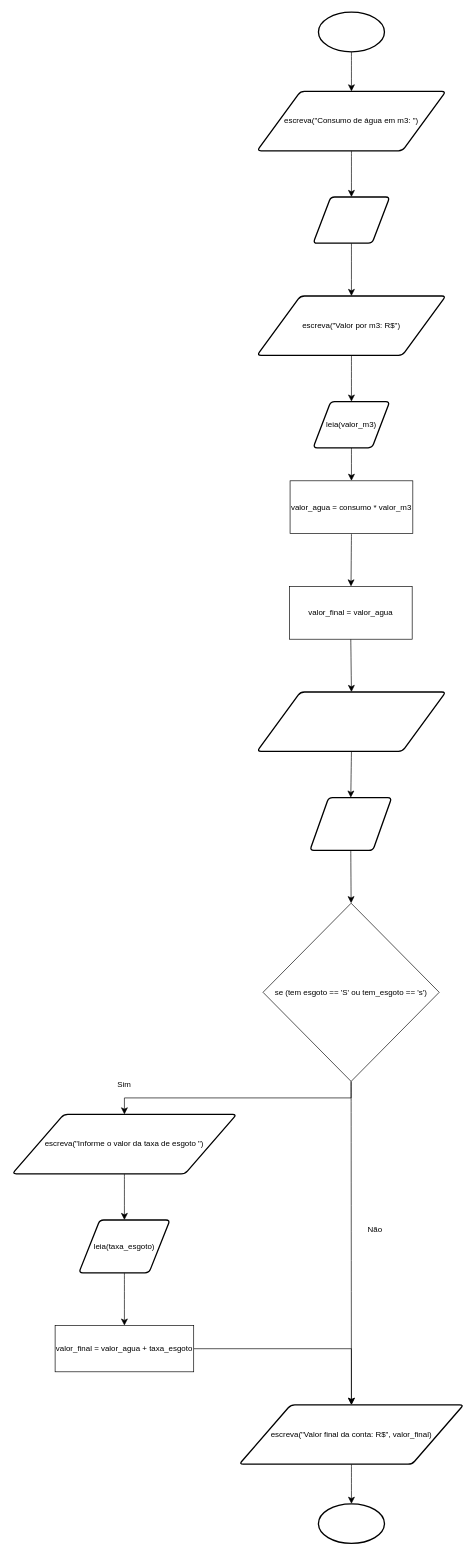
This 475x1555 diagram has some shape labels left out. Here are the shapes that lost their labels. From the top down, the box of each, then its label:
(317, 11, 385, 52): Início
(312, 196, 390, 244): leia(consumo)
(256, 691, 446, 752): escreva("Houve cobrança de esgoto? (S/N): ")
(309, 797, 392, 851): leia(tem_esgoto)
(317, 1503, 385, 1544): Fim
